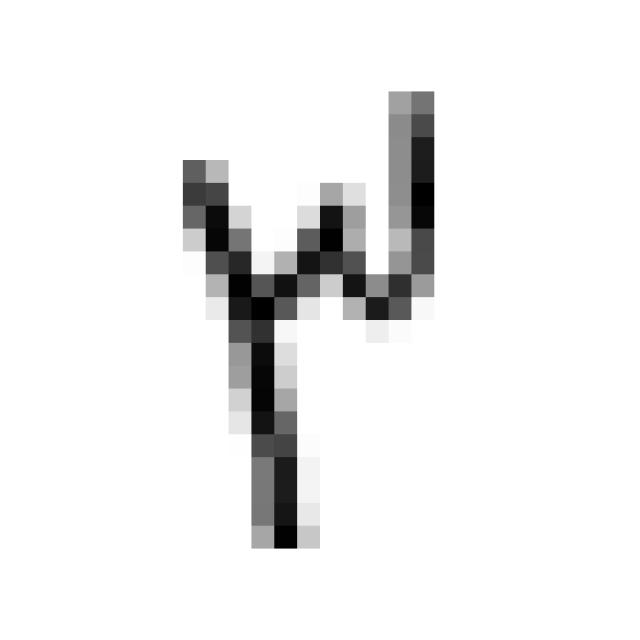3 -three-: (153, 66, 459, 572)
